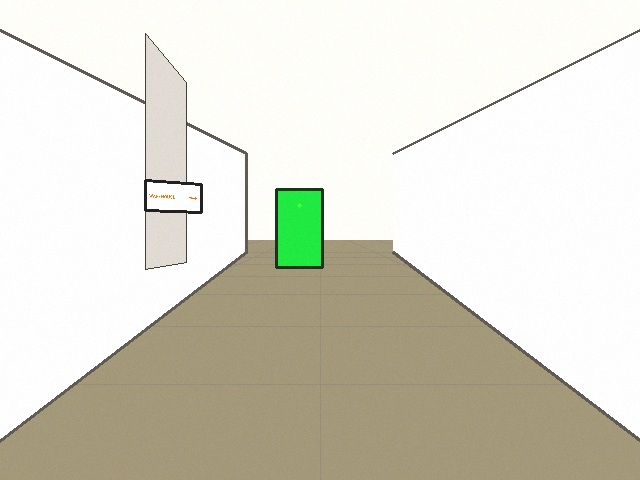charging_station: (276, 189, 322, 267)
directional_sign: (145, 180, 201, 212)
